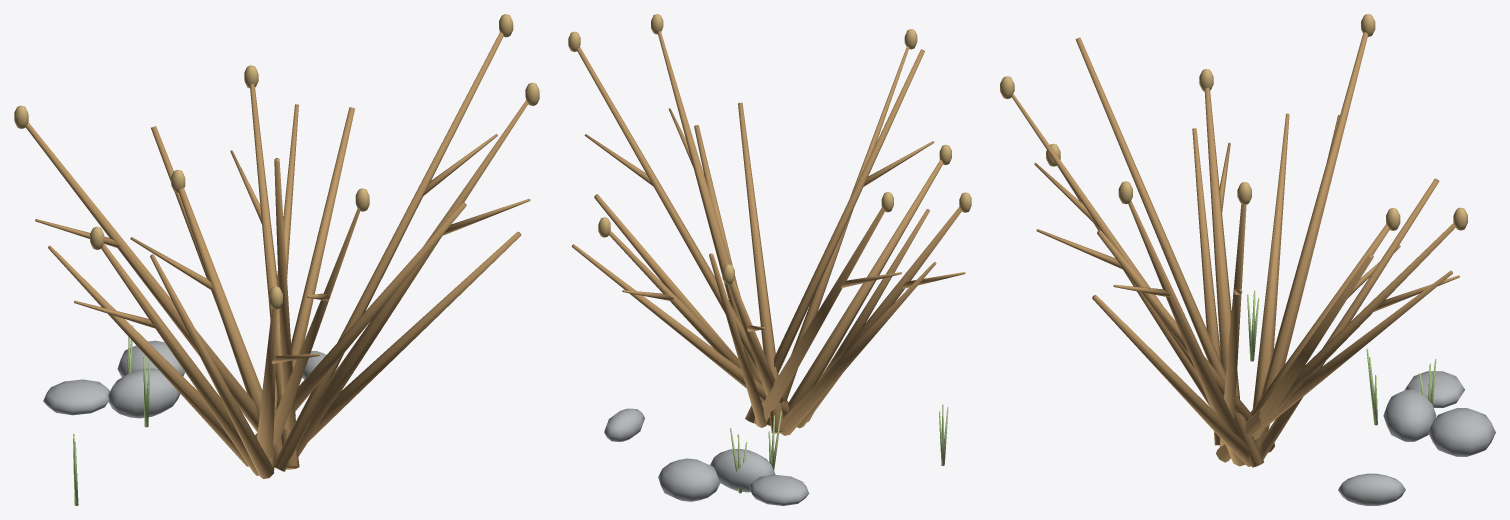
Rendered from dry_bush.glb.
The picture shows the model from 3 angles, left to right: view 1: azimuth 30°, elevation 25°; view 2: azimuth 150°, elevation 25°; view 3: azimuth 270°, elevation 25°; orthographic projection. The views are drawn at different scales.
Visible parts, largest first — view 1: dry_bush_stem_0, dry_bush_stem_14, dry_bush_stem_6, dry_bush_stem_8, dry_bush_stem_15, dry_bush_stem_4, dry_bush_stem_13, dry_bush_stem_7, dry_bush_stem_9, dry_bush_stem_1, dry_bush_stem_2, dry_bush_ground_rock_0 (+7 smaller); view 2: dry_bush_stem_11, dry_bush_stem_10, dry_bush_stem_13, dry_bush_stem_0, dry_bush_stem_6, dry_bush_stem_14, dry_bush_stem_7, dry_bush_ground_rock_3, dry_bush_stem_3, dry_bush_ground_rock_0, dry_bush_stem_12, dry_bush_stem_8 (+8 smaller); view 3: dry_bush_stem_6, dry_bush_stem_11, dry_bush_stem_8, dry_bush_stem_14, dry_bush_stem_7, dry_bush_stem_2, dry_bush_ground_rock_3, dry_bush_stem_15, dry_bush_stem_1, dry_bush_stem_5, dry_bush_ground_rock_0, dry_bush_stem_9 (+8 smaller).
Boxes of the visible parts, x1,y1,x2,y2 form: dry_bush_stem_0: (273,32,503,471); dry_bush_stem_14: (296,100,527,456); dry_bush_stem_6: (26,122,258,431); dry_bush_stem_8: (101,243,258,475); dry_bush_stem_15: (308,231,521,441); dry_bush_stem_4: (178,187,282,467); dry_bush_stem_13: (255,202,466,438); dry_bush_stem_7: (48,245,248,466); dry_bush_stem_9: (150,254,273,478); dry_bush_stem_1: (276,107,354,410); dry_bush_stem_2: (250,84,299,469); dry_bush_ground_rock_0: (108,368,180,418); dry_bush_stem_11: (745,49,924,423); dry_bush_stem_10: (784,159,943,416); dry_bush_stem_13: (738,102,784,433); dry_bush_stem_0: (577,47,788,403); dry_bush_stem_6: (754,207,884,424); dry_bush_stem_14: (658,31,761,381); dry_bush_stem_7: (779,262,936,435); dry_bush_ground_rock_3: (658,458,720,501); dry_bush_stem_3: (571,244,789,415); dry_bush_ground_rock_0: (710,448,775,492); dry_bush_stem_12: (765,46,909,425); dry_bush_stem_8: (797,207,961,428); dry_bush_stem_6: (1255,32,1368,455); dry_bush_stem_11: (1075,37,1263,467); dry_bush_stem_8: (1204,87,1239,398); dry_bush_stem_14: (1128,200,1245,466); dry_bush_stem_7: (1252,113,1289,408); dry_bush_stem_2: (1216,223,1455,462); dry_bush_ground_rock_3: (1428,408,1495,456); dry_bush_stem_15: (1092,295,1251,466); dry_bush_stem_1: (1253,254,1373,439); dry_bush_stem_5: (1261,178,1439,459); dry_bush_ground_rock_0: (1383,389,1436,441); dry_bush_stem_9: (1192,128,1221,445).
Size of the model in its own units: 0.9919 by 0.8405 by 0.9736.
